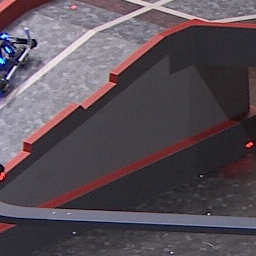Blue: (1, 40, 12, 66)
Robot: (1, 28, 36, 92)
